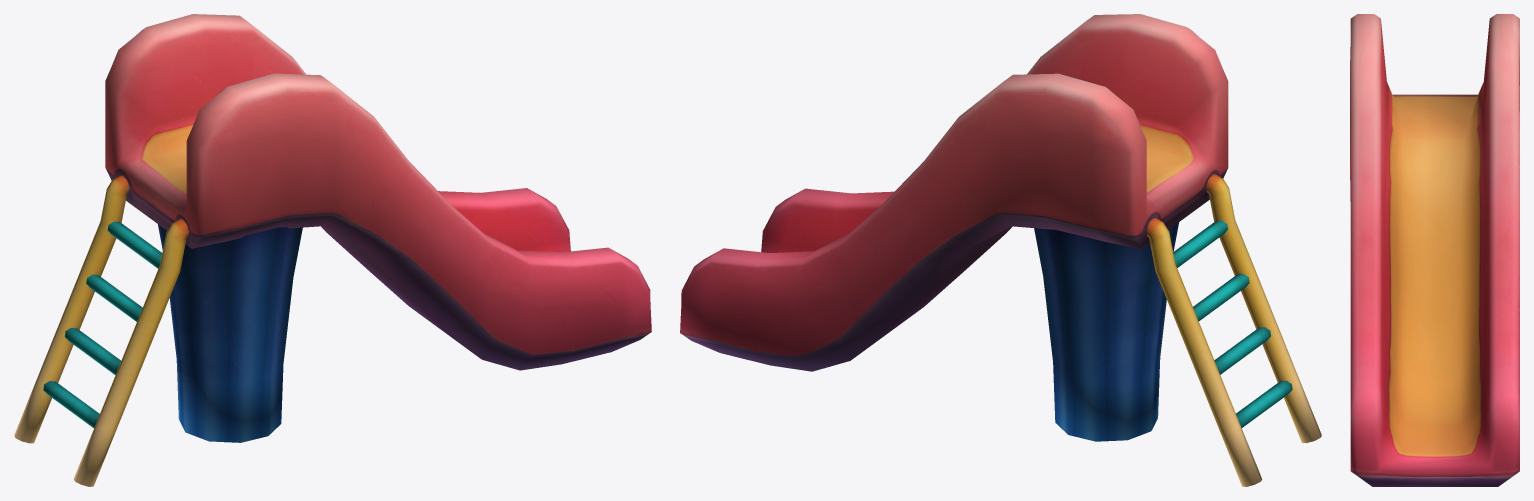
Rendered from SE_Slide_01_SM.FBX.
The picture shows the model from 3 angles, left to right: view 1: azimuth 30°, elevation 25°; view 2: azimuth 150°, elevation 25°; view 3: azimuth 270°, elevation 25°; orthographic projection. The views are drawn at different scales.
Parts seen in each view (by area): view 1: SE_Slide_01_SM_LOD0; view 2: SE_Slide_01_SM_LOD0; view 3: SE_Slide_01_SM_LOD0.
Boxes of the visible parts, x1=… form: SE_Slide_01_SM_LOD0: x1=14, y1=14, x2=651, y2=486; SE_Slide_01_SM_LOD0: x1=680, y1=14, x2=1321, y2=486; SE_Slide_01_SM_LOD0: x1=1350, y1=14, x2=1519, y2=486.
Size of what is drawn, in the model's own units: 1138 by 349 by 719.
